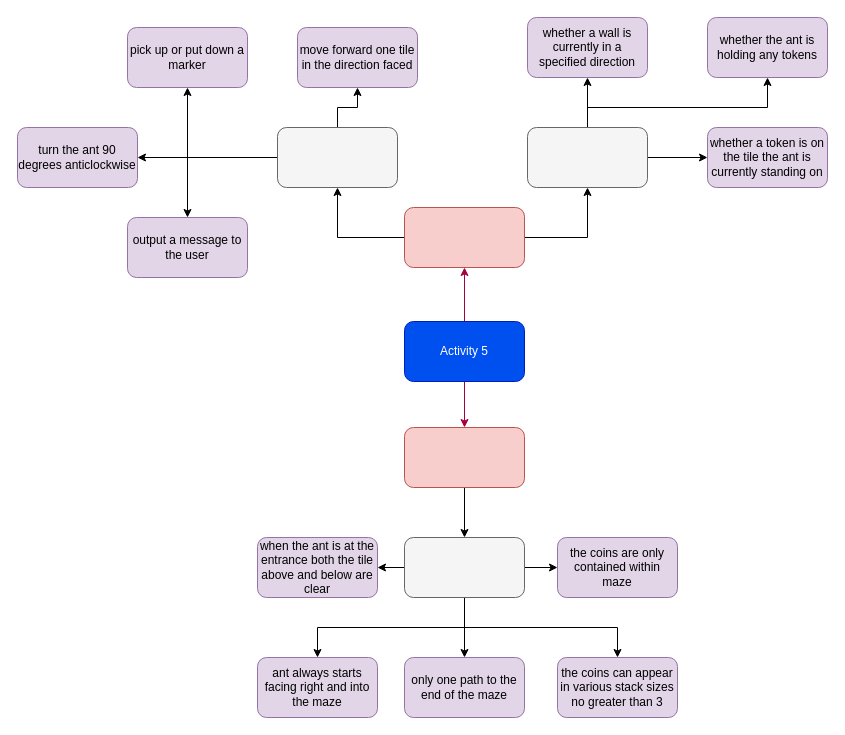
Some shapes in this 845 by 735 pixel diagram are drawn without their labels. The centre of each missing label's shape, as x and y in pixels:
Activity Imposed Restrictions: the point at 464,457
Inputs: the point at 587,157
Maze Structure: the point at 464,567
Outputs: the point at 337,157
Roboant Imposed Restrictions: the point at 464,237
